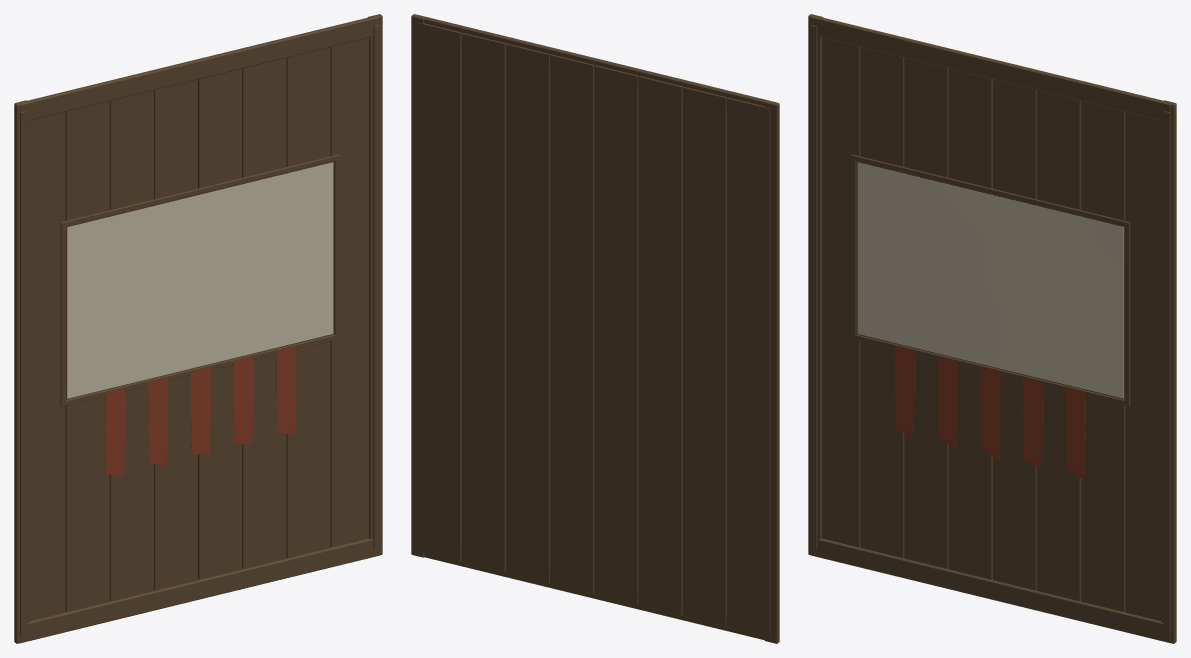
The model's file is entrance-panel-lod1.fbx.
3 views of the same model, side by side, from view 1: azimuth 30°, elevation 25°; view 2: azimuth 150°, elevation 25°; view 3: azimuth 330°, elevation 25° (orthographic).
Visible parts, largest first — view 1: Slack paper return plaque, Individual entrance boards.007, Individual entrance boards, Individual entrance boards.001, Individual entrance boards.006, Individual entrance boards.005, Individual entrance boards.004, Individual entrance boards.002, Individual entrance boards.003, Entrance top and foot rail.001, Entrance top and foot rail, Planed entrance stile (+12 smaller); view 2: Individual entrance boards.004, Individual entrance boards.002, Individual entrance boards.003, Individual entrance boards.007, Individual entrance boards.005, Individual entrance boards.001, Individual entrance boards.006, Individual entrance boards, Planed entrance stile, Planed entrance stile.001, Entrance top and foot rail.001, Entrance top and foot rail; view 3: Slack paper return plaque, Individual entrance boards, Individual entrance boards.007, Individual entrance boards.006, Individual entrance boards.001, Individual entrance boards.002, Individual entrance boards.003, Individual entrance boards.005, Individual entrance boards.004, Entrance top and foot rail.001, Entrance top and foot rail, Planed entrance stile.001 (+12 smaller).
Part boxes in pixels (x1=…): Slack paper return plaque: x1=67, y1=162, x2=333, y2=398; Individual entrance boards.007: x1=330, y1=38, x2=368, y2=547; Individual entrance boards: x1=29, y1=112, x2=65, y2=621; Individual entrance boards.001: x1=65, y1=101, x2=109, y2=611; Individual entrance boards.006: x1=286, y1=47, x2=330, y2=558; Individual entrance boards.005: x1=242, y1=58, x2=286, y2=568; Individual entrance boards.004: x1=198, y1=68, x2=242, y2=579; Individual entrance boards.002: x1=109, y1=90, x2=153, y2=601; Individual entrance boards.003: x1=154, y1=79, x2=197, y2=590; Entrance top and foot rail.001: x1=19, y1=15, x2=379, y2=120; Entrance top and foot rail: x1=20, y1=538, x2=379, y2=643; Planed entrance stile: x1=14, y1=100, x2=29, y2=643; Individual entrance boards.004: x1=550, y1=54, x2=594, y2=594; Individual entrance boards.002: x1=638, y1=76, x2=682, y2=615; Individual entrance boards.003: x1=594, y1=65, x2=638, y2=605; Individual entrance boards.007: x1=417, y1=22, x2=461, y2=561; Individual entrance boards.005: x1=506, y1=43, x2=550, y2=583; Individual entrance boards.001: x1=683, y1=87, x2=726, y2=626; Individual entrance boards.006: x1=462, y1=33, x2=505, y2=572; Individual entrance boards: x1=727, y1=97, x2=770, y2=637; Planed entrance stile: x1=764, y1=100, x2=779, y2=643; Planed entrance stile.001: x1=411, y1=14, x2=424, y2=557; Entrance top and foot rail.001: x1=416, y1=14, x2=775, y2=109; Entrance top and foot rail: x1=424, y1=549, x2=764, y2=640; Slack paper return plaque: x1=857, y1=162, x2=1123, y2=398; Individual entrance boards: x1=822, y1=38, x2=860, y2=547; Individual entrance boards.007: x1=1125, y1=112, x2=1161, y2=621; Individual entrance boards.006: x1=1081, y1=101, x2=1125, y2=611; Individual entrance boards.001: x1=860, y1=47, x2=904, y2=558; Individual entrance boards.002: x1=904, y1=58, x2=948, y2=568; Individual entrance boards.003: x1=948, y1=68, x2=992, y2=579; Individual entrance boards.005: x1=1037, y1=90, x2=1081, y2=601; Individual entrance boards.004: x1=993, y1=79, x2=1036, y2=590; Entrance top and foot rail.001: x1=811, y1=15, x2=1171, y2=120; Entrance top and foot rail: x1=811, y1=538, x2=1170, y2=643; Planed entrance stile.001: x1=1161, y1=100, x2=1176, y2=643.
Bounding box in the file's own units: 154 × 217 × 3.
